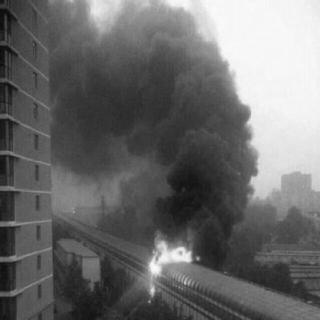Fire: (139, 217, 203, 299)
Smoke: (97, 16, 243, 232)
